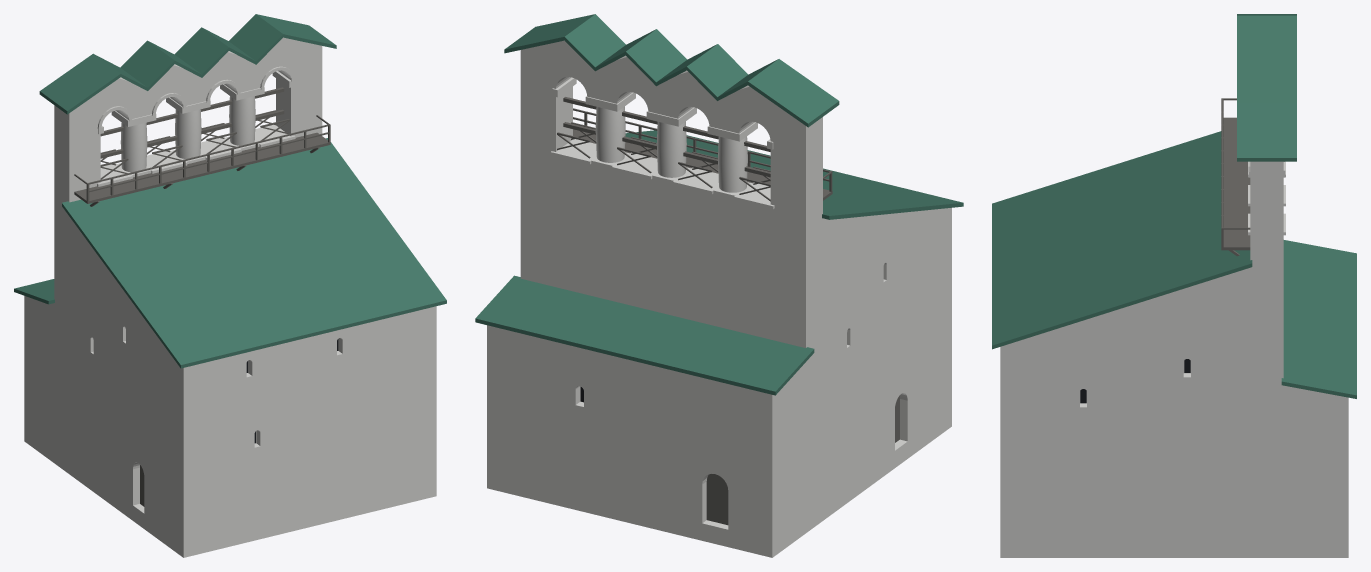
The model's file is SM_KozmyBelfry.glb.
The picture shows the model from 3 angles, left to right: view 1: azimuth 30°, elevation 25°; view 2: azimuth 150°, elevation 25°; view 3: azimuth 270°, elevation 25°; orthographic projection. The views are drawn at different scales.
Parts seen in each view (by area): view 1: SM_KozmyBelfry; view 2: SM_KozmyBelfry; view 3: SM_KozmyBelfry.
Part boxes in pixels (x1,y1,x2,y2): SM_KozmyBelfry: [14, 14, 446, 557]; SM_KozmyBelfry: [475, 14, 963, 557]; SM_KozmyBelfry: [992, 14, 1356, 557].
Bounding box in the file's own units: 16.38 × 22.9 × 17.56.
